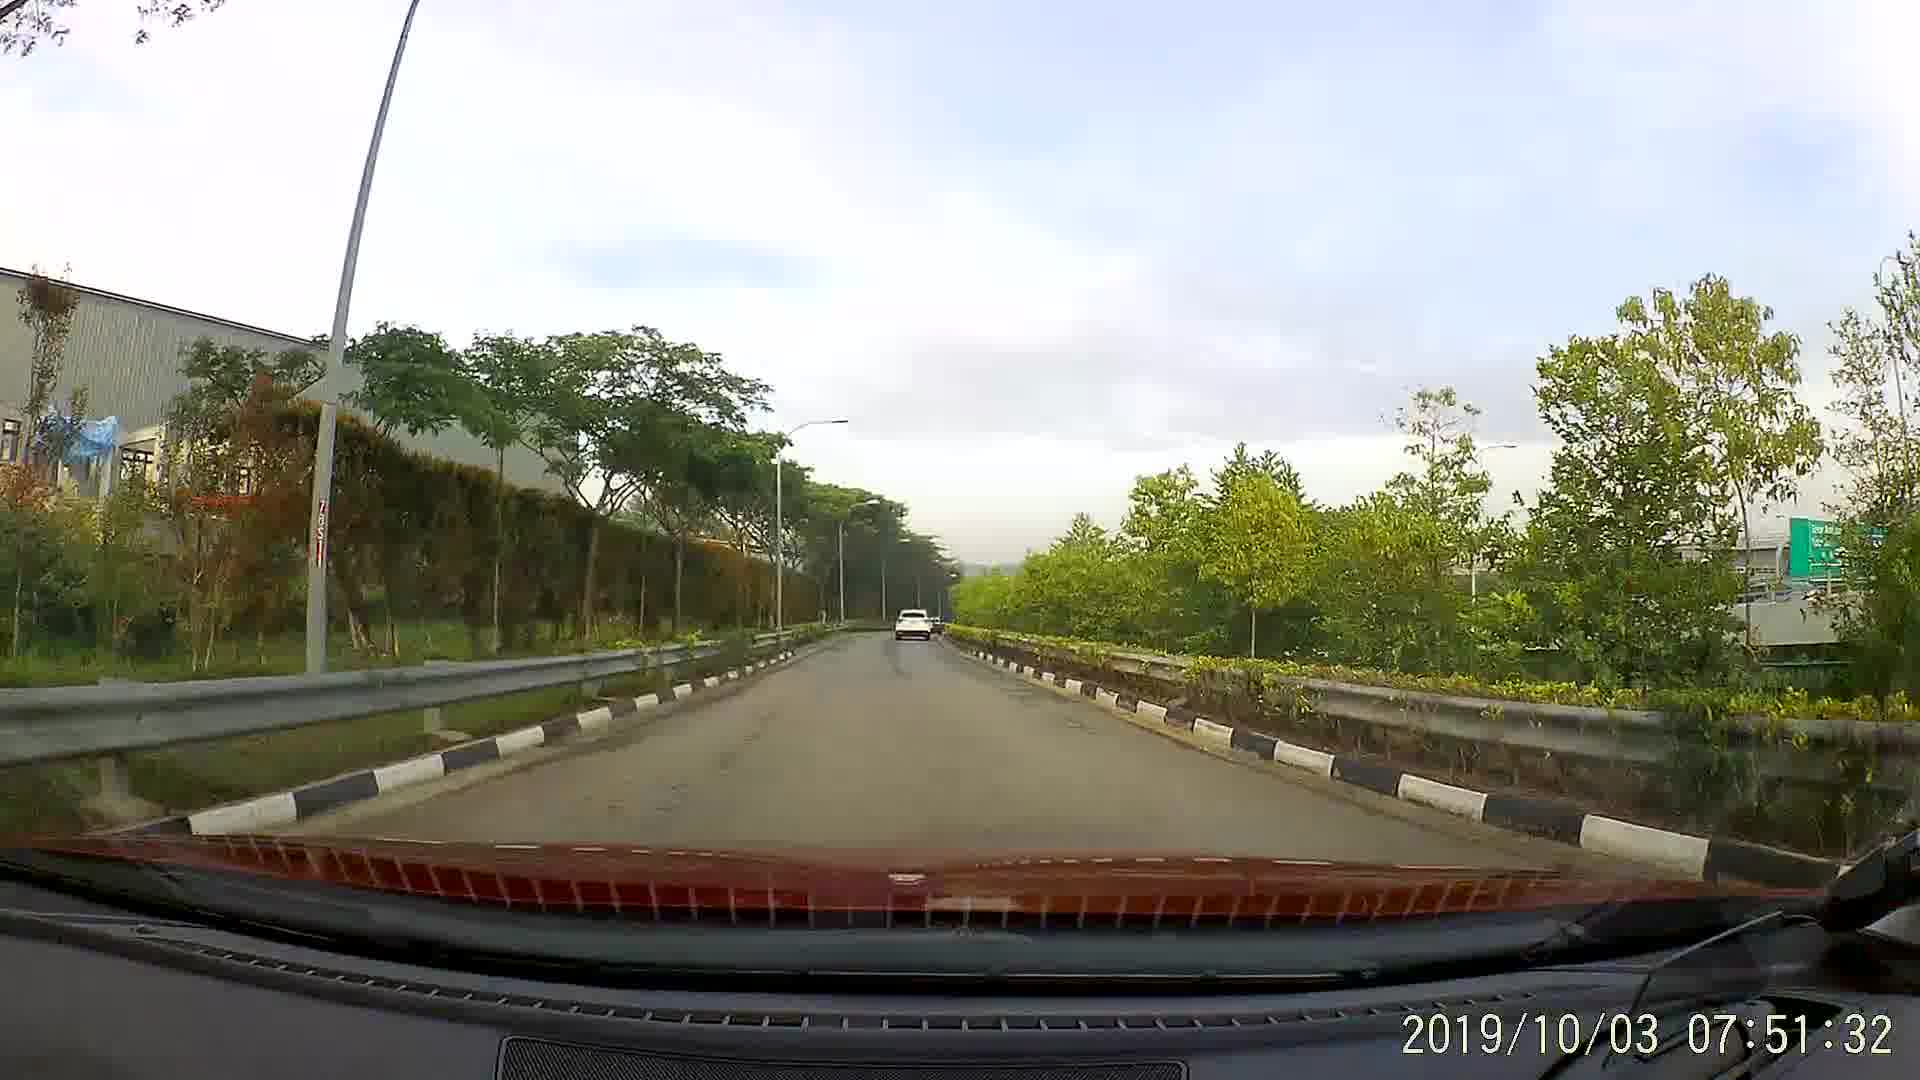car: (890, 603, 936, 644)
